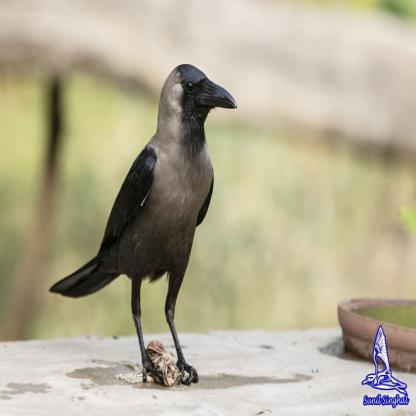Burung: (49, 64, 237, 385)
